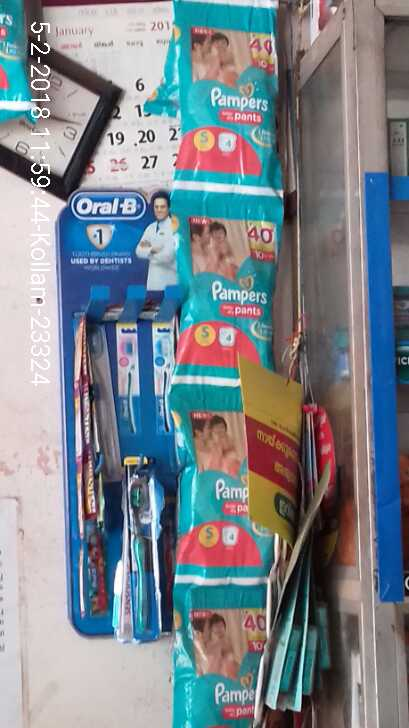pharmacy: (163, 396, 289, 587), (173, 201, 279, 397), (170, 20, 286, 187), (171, 591, 292, 728), (126, 465, 155, 634)
